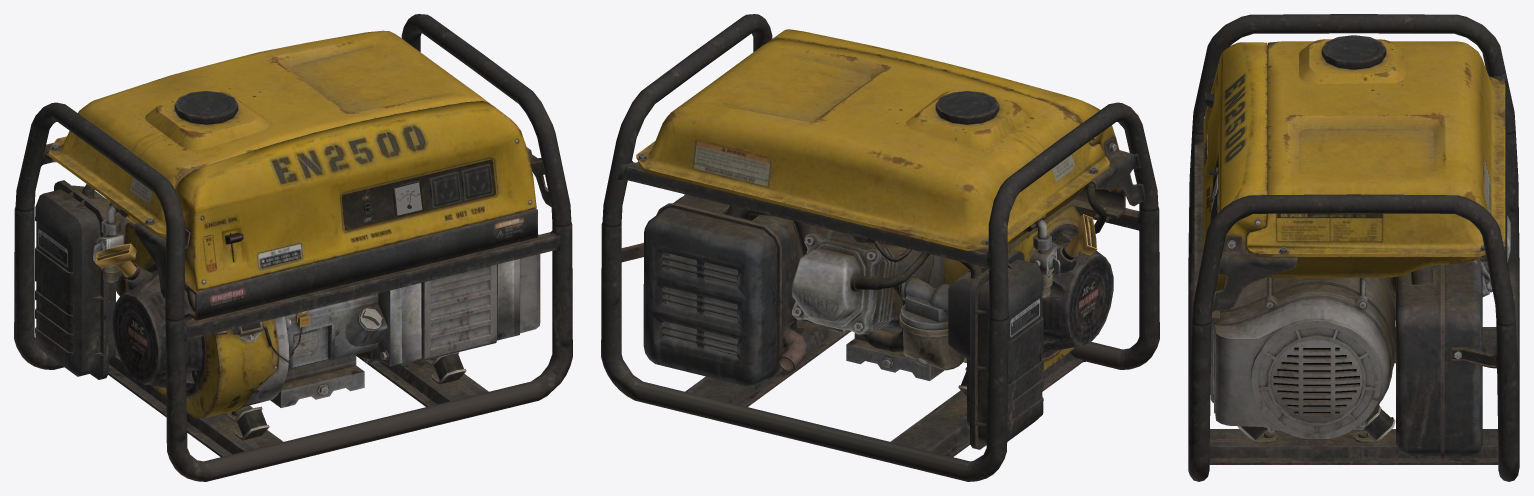
File: portable_generator.glb
3 views of the same model, side by side, from view 1: azimuth 30°, elevation 25°; view 2: azimuth 150°, elevation 25°; view 3: azimuth 270°, elevation 25° (orthographic).
Visible parts, largest first — view 1: portable_generator; view 2: portable_generator; view 3: portable_generator.
Boxes of the visible parts, x1,y1,x2,y2 form: portable_generator: [14, 14, 572, 481]; portable_generator: [601, 14, 1159, 481]; portable_generator: [1188, 14, 1519, 481].
Size of the model in its own units: 0.8169 by 0.5752 by 0.564.
2 materials, 2 textured.
